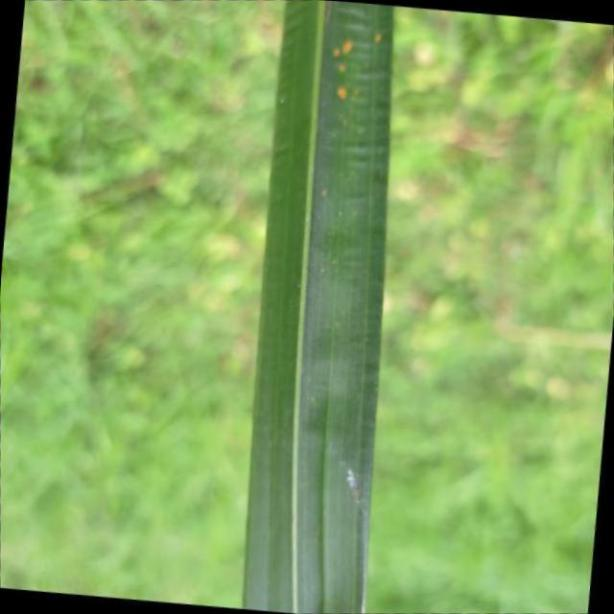Boron: (242, 0, 398, 614)
